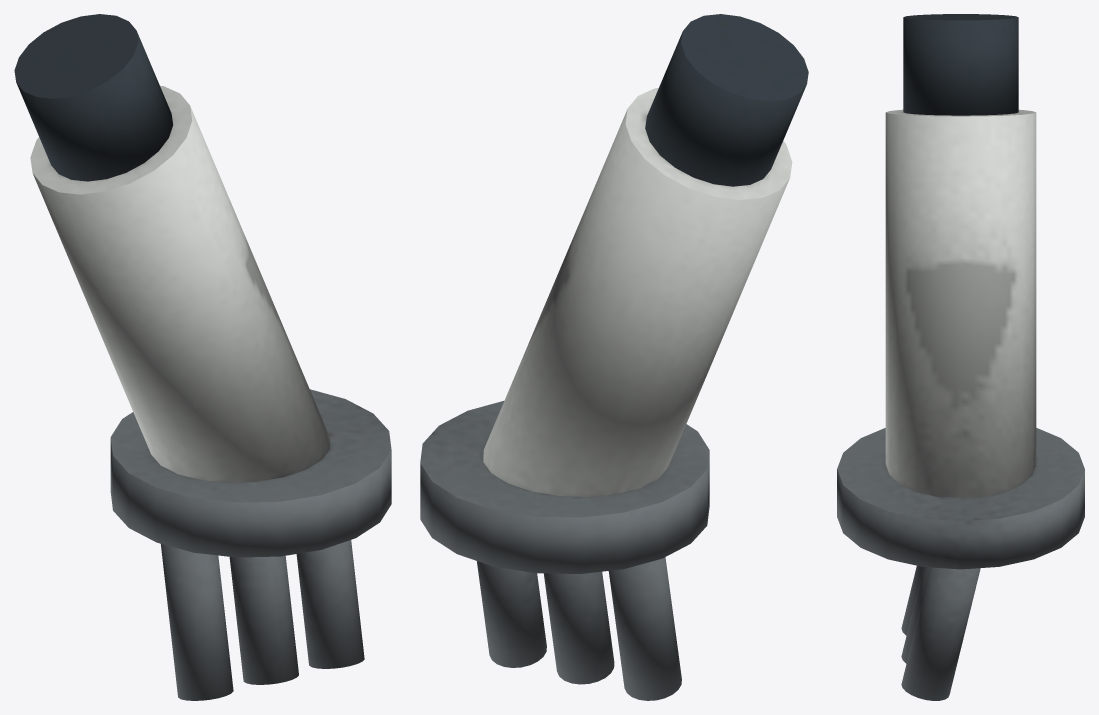
Rendered from 4_optics.obj.
3 views of the same model, side by side, from view 1: azimuth 30°, elevation 25°; view 2: azimuth 150°, elevation 25°; view 3: azimuth 270°, elevation 25° (orthographic). The views are drawn at different scales.
Bounding box in the file's own units: 0.4004 × 0.7402 × 0.28.
Materials: 1 (1 with a texture image).
